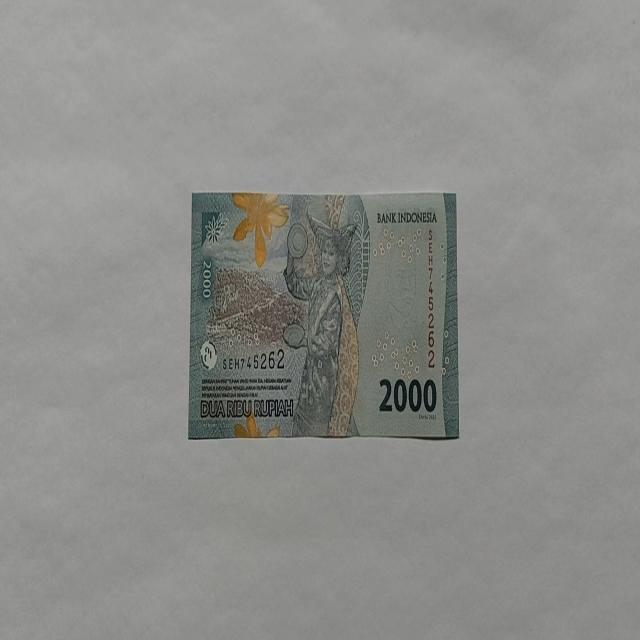dua ribu rupiah: (188, 189, 460, 441), (282, 210, 361, 437), (230, 190, 290, 268)
